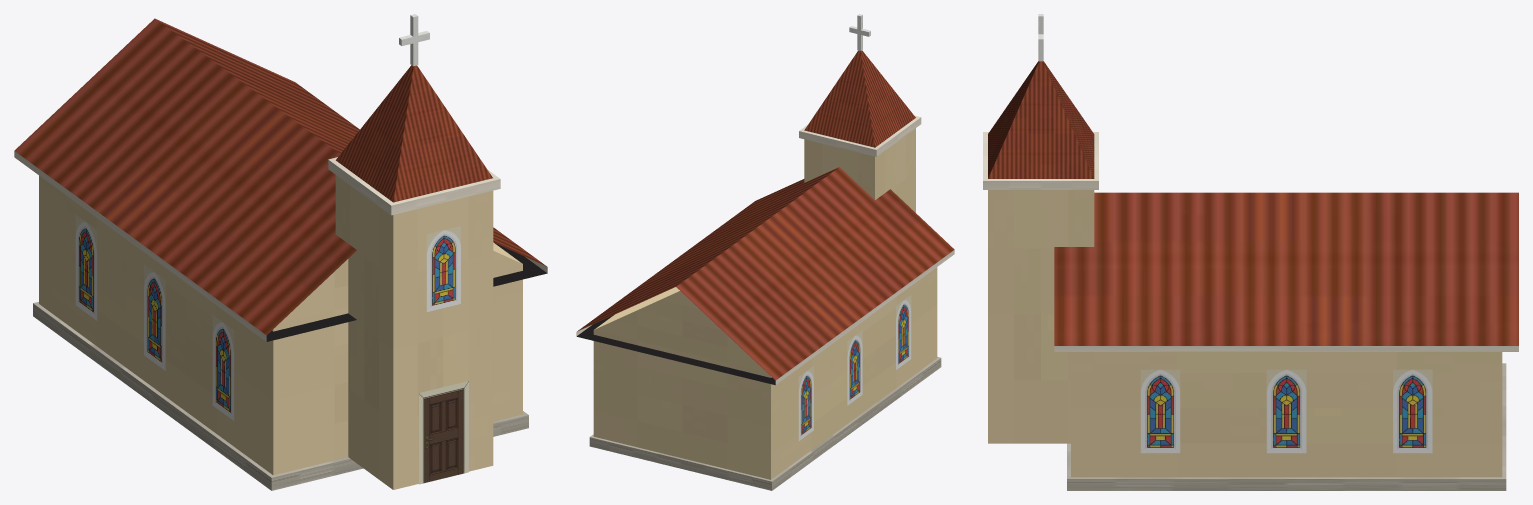
The model's file is church-cream-far.glb.
3 views of the same model, side by side, from view 1: azimuth 30°, elevation 25°; view 2: azimuth 150°, elevation 25°; view 3: azimuth 270°, elevation 25° (orthographic). The views are drawn at different scales.
Parts seen in each view (by area): view 1: church-cream-far; view 2: church-cream-far; view 3: church-cream-far.
Part boxes in pixels (<box>): church-cream-far: <box>14,14,547,490</box>; church-cream-far: <box>576,14,954,490</box>; church-cream-far: <box>983,14,1518,490</box>.
Size of the model in its own units: 9 by 13.9 by 16.15.
Materials: 1 (1 with a texture image).
